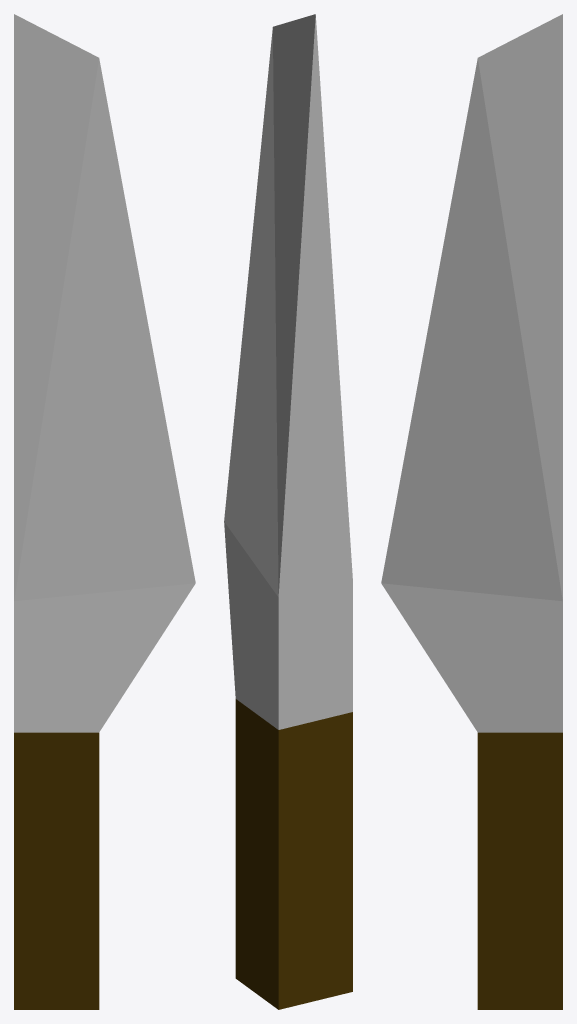
The model's file is Knife.fbx.
3 views of the same model, side by side, from view 1: azimuth 90°, elevation 25°; view 2: azimuth 210°, elevation 25°; view 3: azimuth 270°, elevation 25° (orthographic).
Parts seen in each view (by area): view 1: Axe_001; view 2: Axe_001; view 3: Axe_001.
Part boxes in pixels (bbox=[...]): Axe_001: bbox=[14, 14, 195, 1009]; Axe_001: bbox=[224, 14, 352, 1009]; Axe_001: bbox=[381, 14, 562, 1009].
Bounding box in the file's own units: 0.0176 × 0.2233 × 0.0376.
